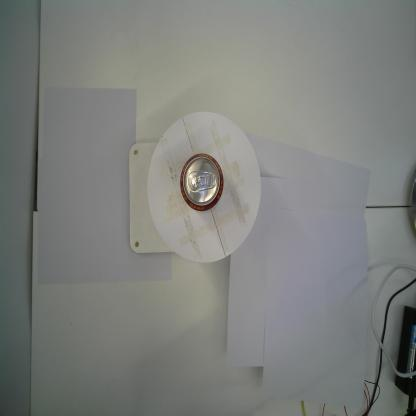Drink: (179, 152, 225, 215)
